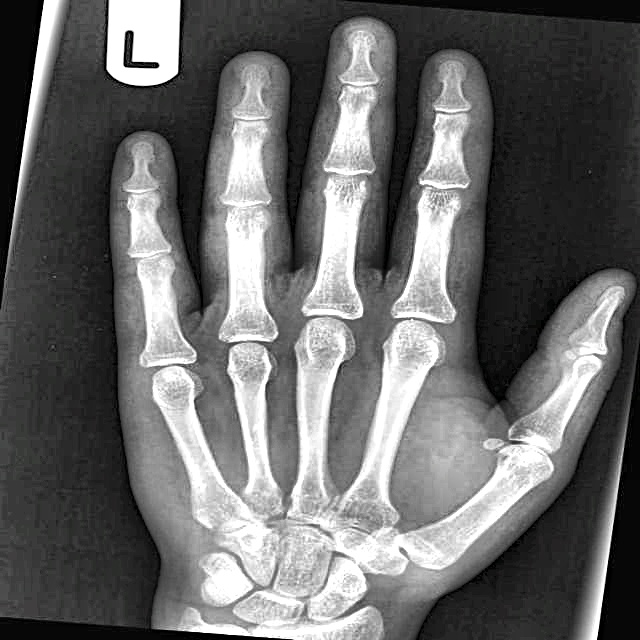Healthy: (131, 127, 544, 569)
